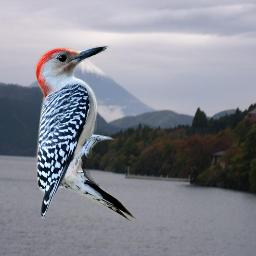Woodpecker: (26, 38, 144, 234)
